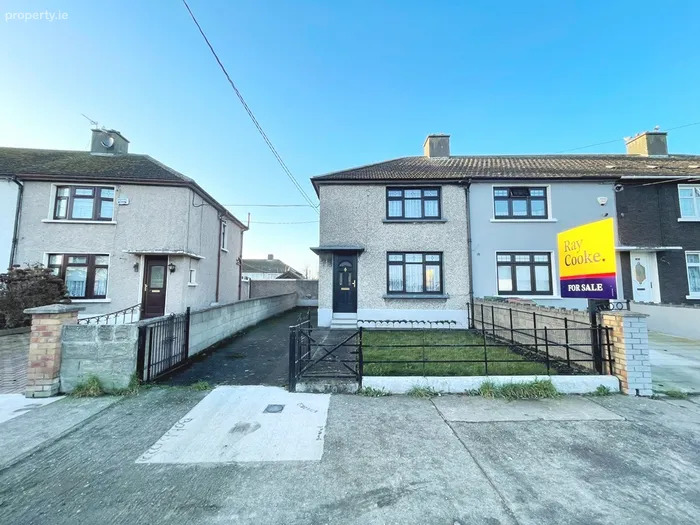property sign: (548, 214, 626, 305)
